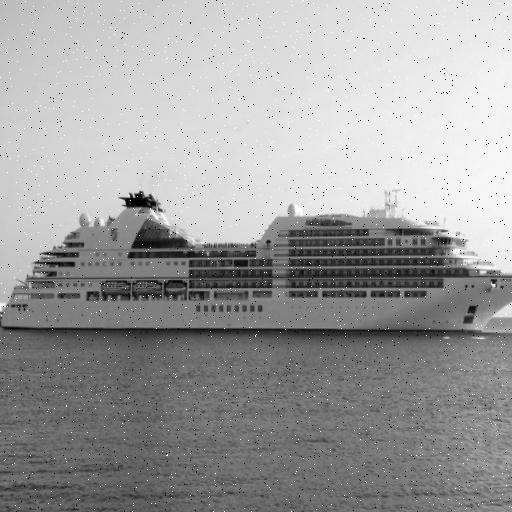cruises: (1, 189, 512, 341)
